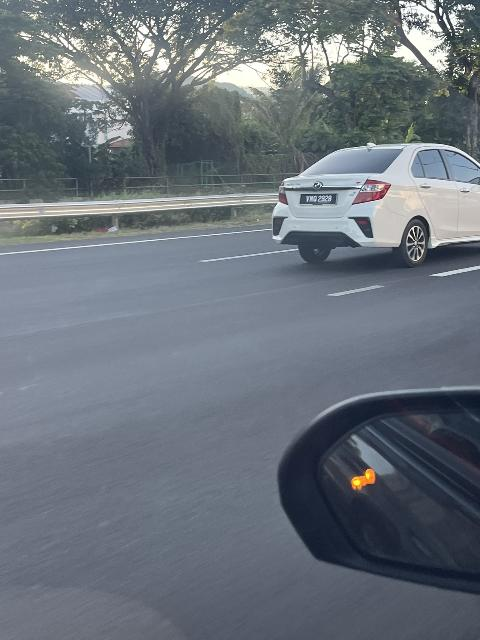License_Plate: (293, 193, 341, 210)
car: (258, 130, 480, 267)
